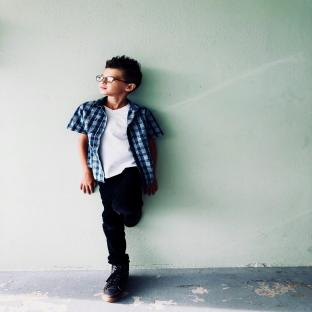Human: (67, 55, 163, 302)
